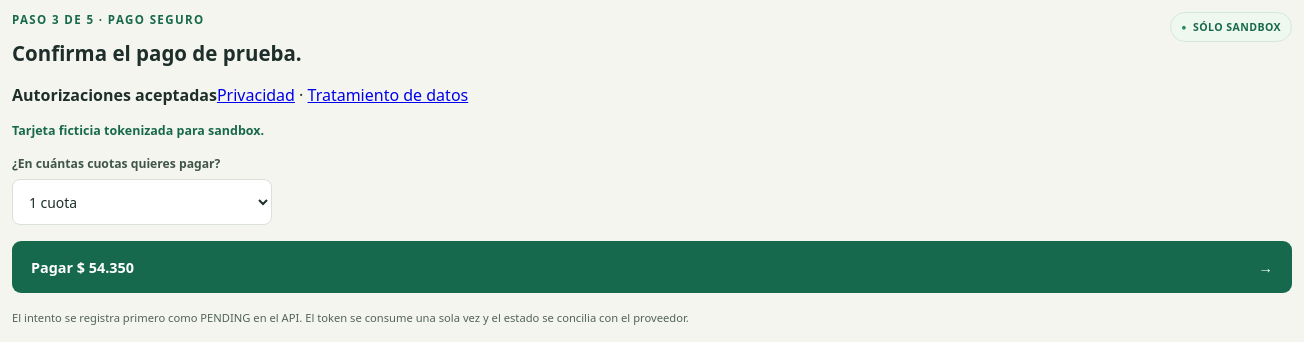
Test: PaymentPanel › treats a payment API timeout as unknown and asks the user to reconcile, never resend
Expected: the text "Tarjeta ficticia tokenizada para sandbox." is shown, [12, 122, 264, 139]
Click the button "Pagar $ 54.350 →": (83, 267) [12, 241, 1292, 293]
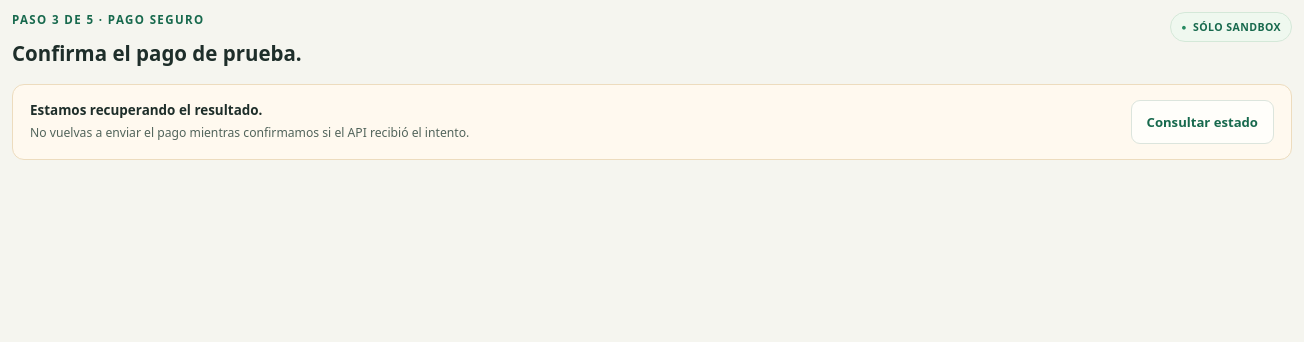
Expected: the text "Estamos recuperando el resultado." is shown, [30, 101, 262, 119]
Expected: the text "No vuelvas a enviar el pago" is shown, [30, 124, 469, 141]
Expected: the text "pagar" is gone
